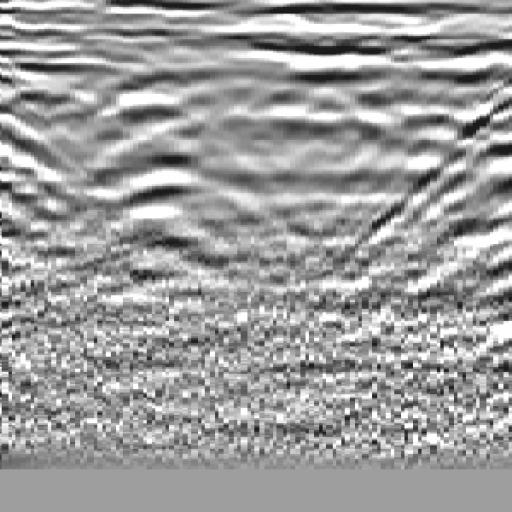metalic: (79, 34, 255, 285)
nonmetalic: (391, 52, 512, 294)
